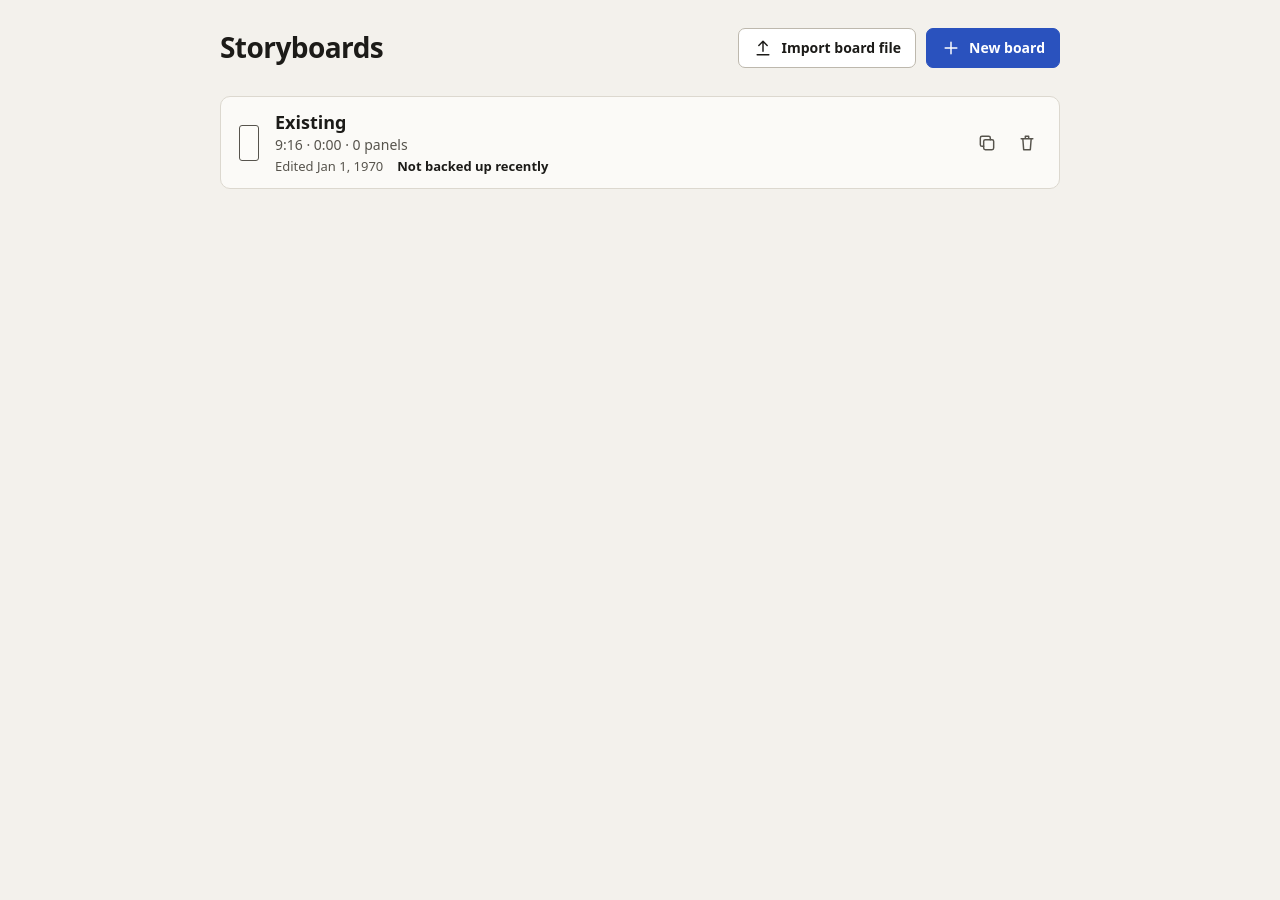
deleting when storage refuses says so and keeps the board listed
Click the button named "Delete Existing". click: (1027, 143)
box: left=1007, top=123, right=1047, bottom=163
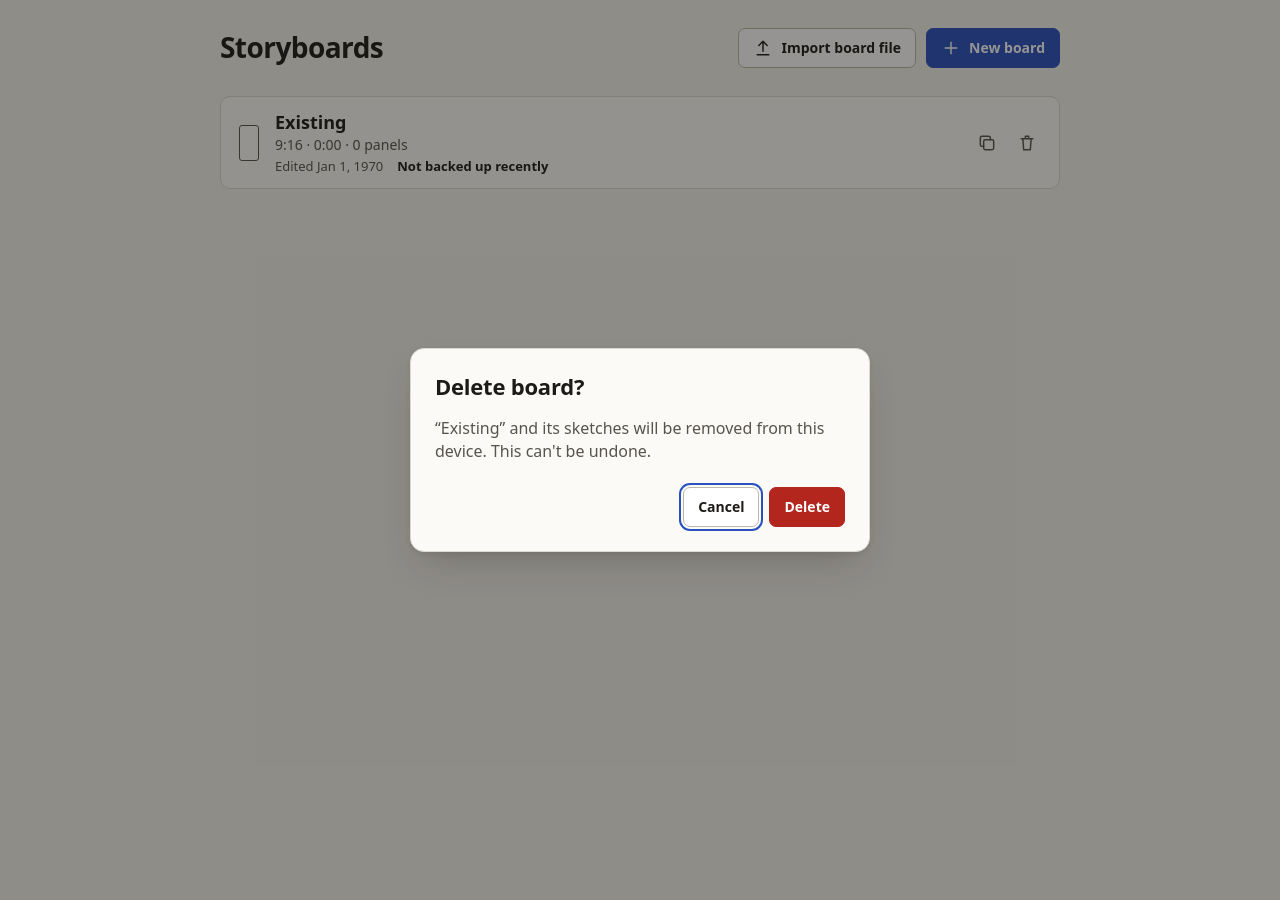
Click the button "Delete". click: (807, 507)
box: left=770, top=487, right=845, bottom=527
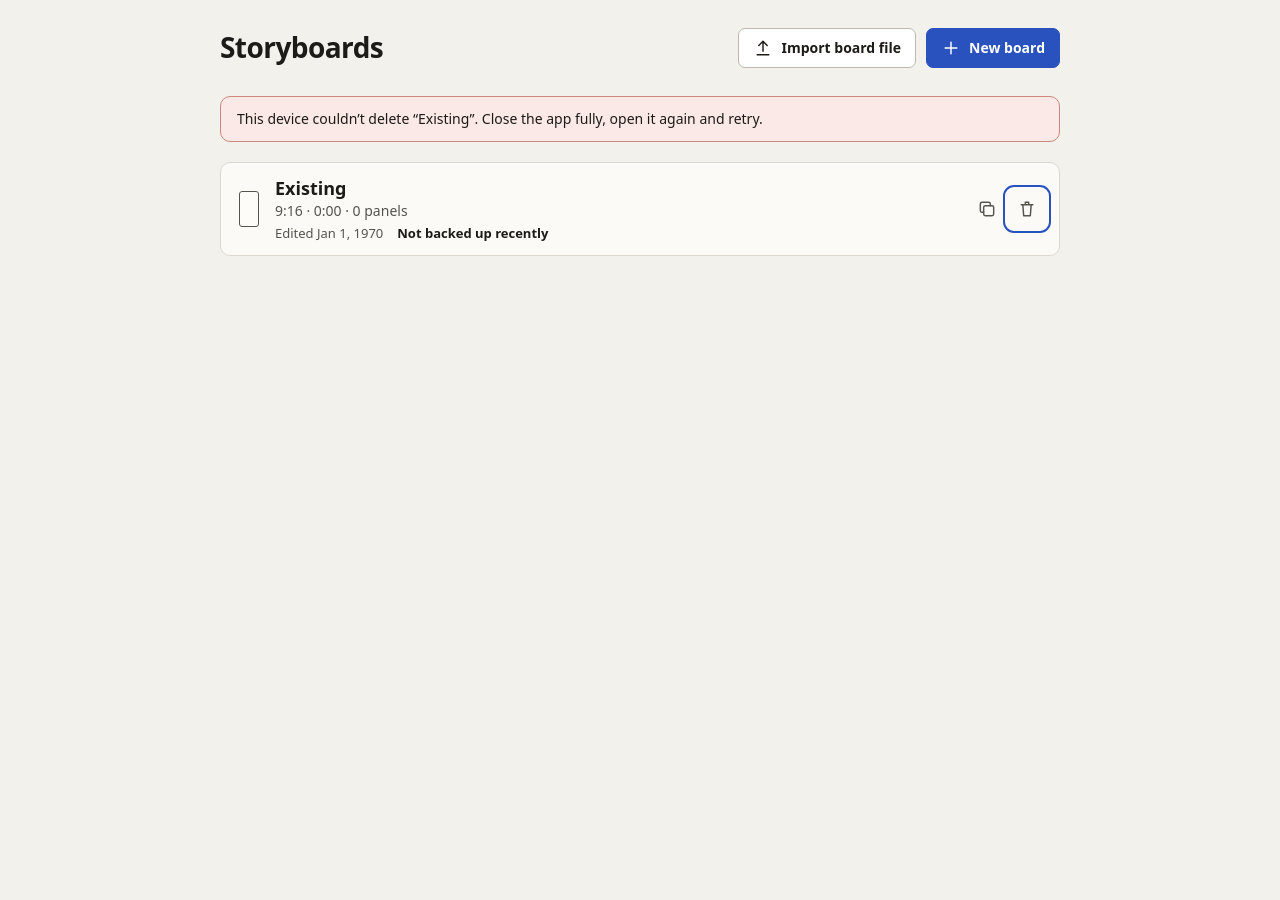
Expected: the link "Existing" is shown, left=275, top=176, right=346, bottom=200
Now the message shows "couldn’t delete", box left=237, top=109, right=763, bottom=128
